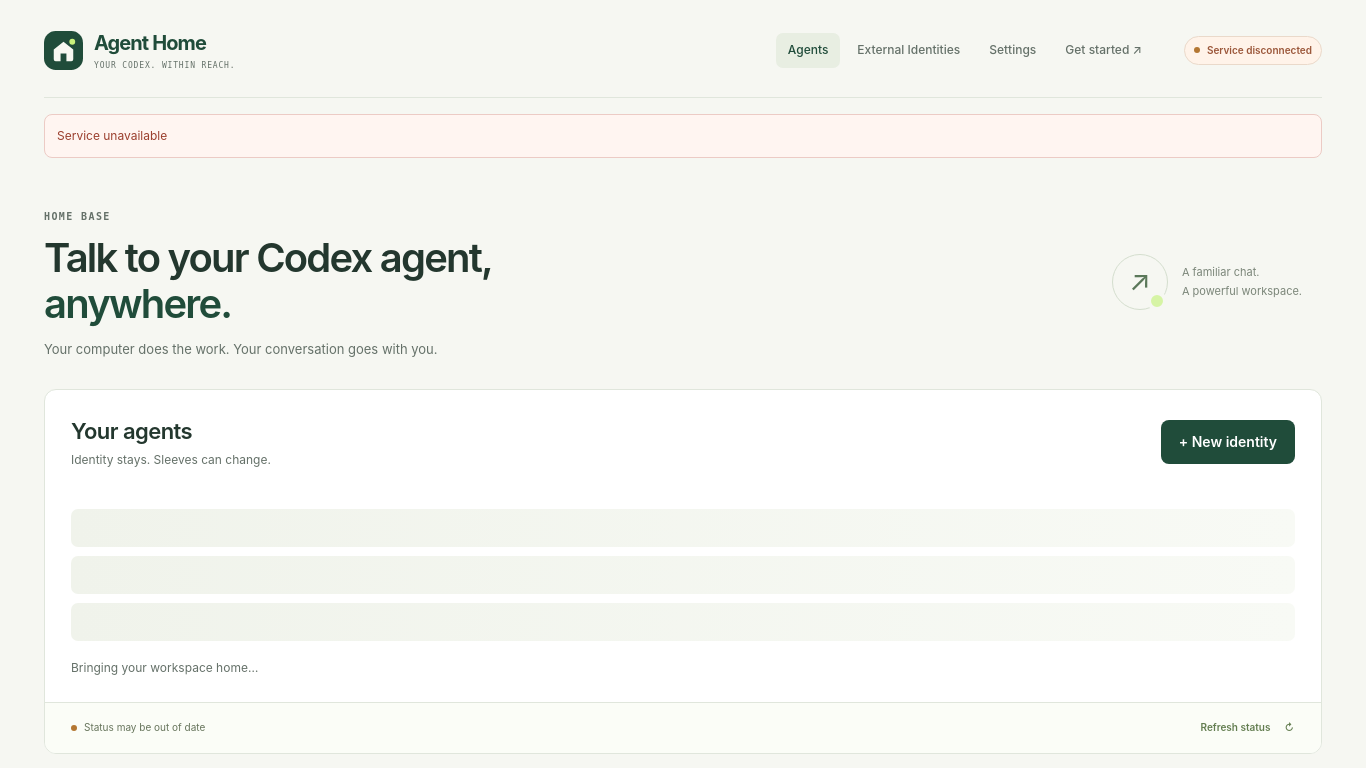
Test: identity dashboard › keeps creation available when initial state loading fails
expect the message "Service unavailable" is shown: met, box [44,114,1322,158]
Click the button "+ New identity" at {"x": 1228, "y": 442}, box [1161,420,1295,464]
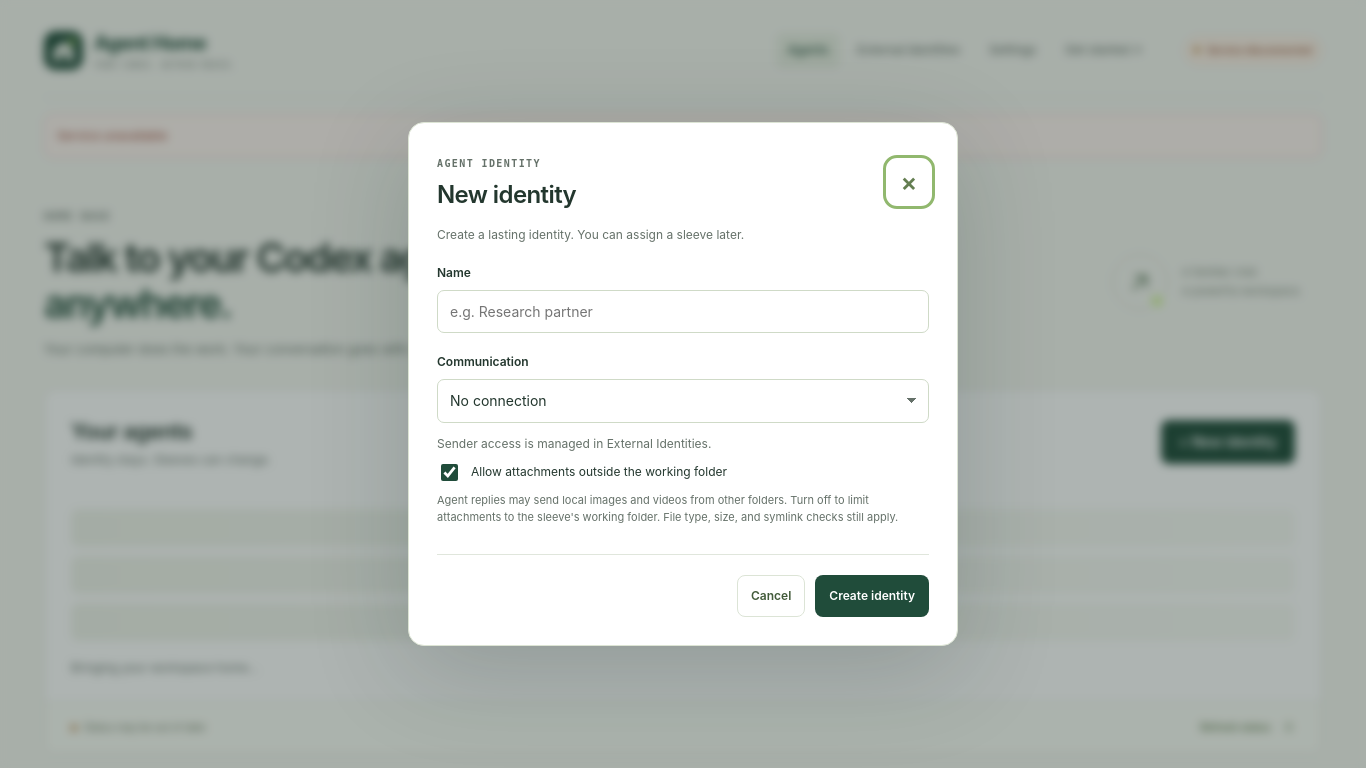
expect the dialog is shown: met, box [408,122,958,646]
